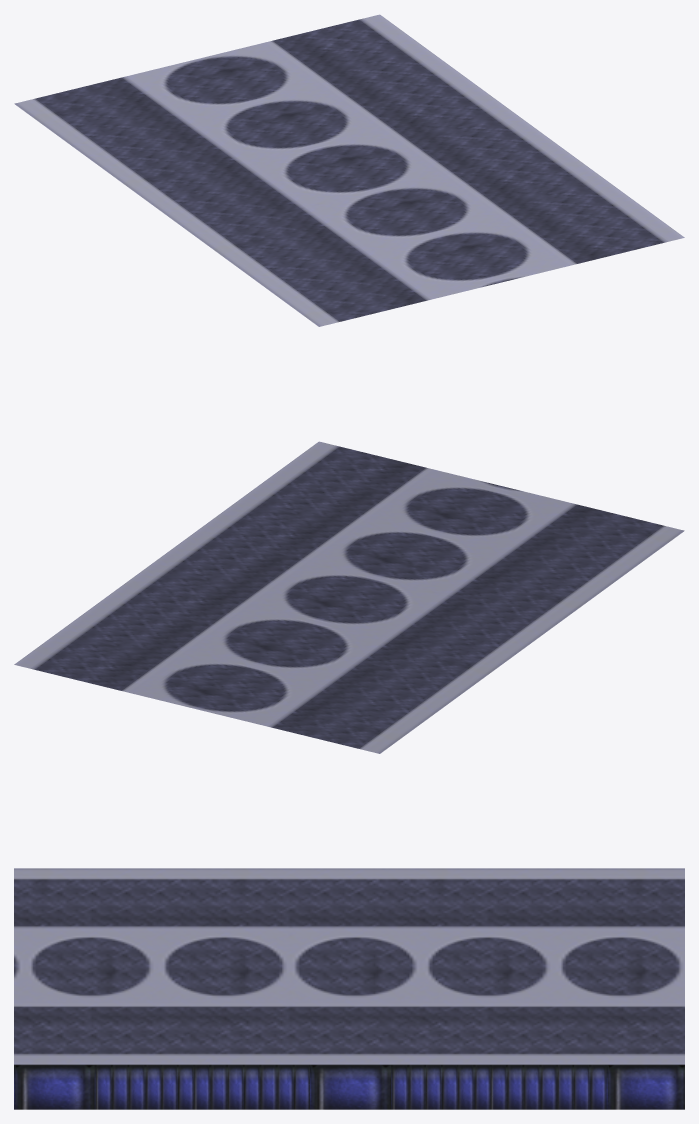
File: catwalk03.glb
3 views of the same model, one above another, from view 1: azimuth 30°, elevation 25°; view 2: azimuth 150°, elevation 25°; view 3: azimuth 270°, elevation 25° (orthographic). The views are drawn at different scales.
Visible parts, largest first — view 1: catwalk03; view 2: catwalk03; view 3: catwalk03.
Part boxes in pixels (x1,y1,x2,y2): catwalk03: [14, 14, 684, 326]; catwalk03: [14, 441, 684, 753]; catwalk03: [14, 868, 684, 1109].
Size of the model in its own units: 271 by 92.11 by 391.
Materials: 2 (2 with a texture image).
